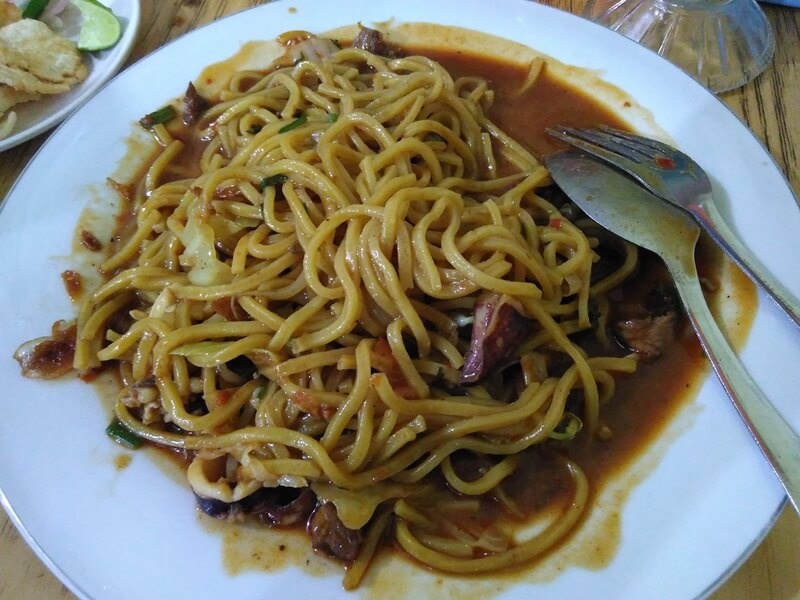mie_aceh: (90, 45, 723, 558)
